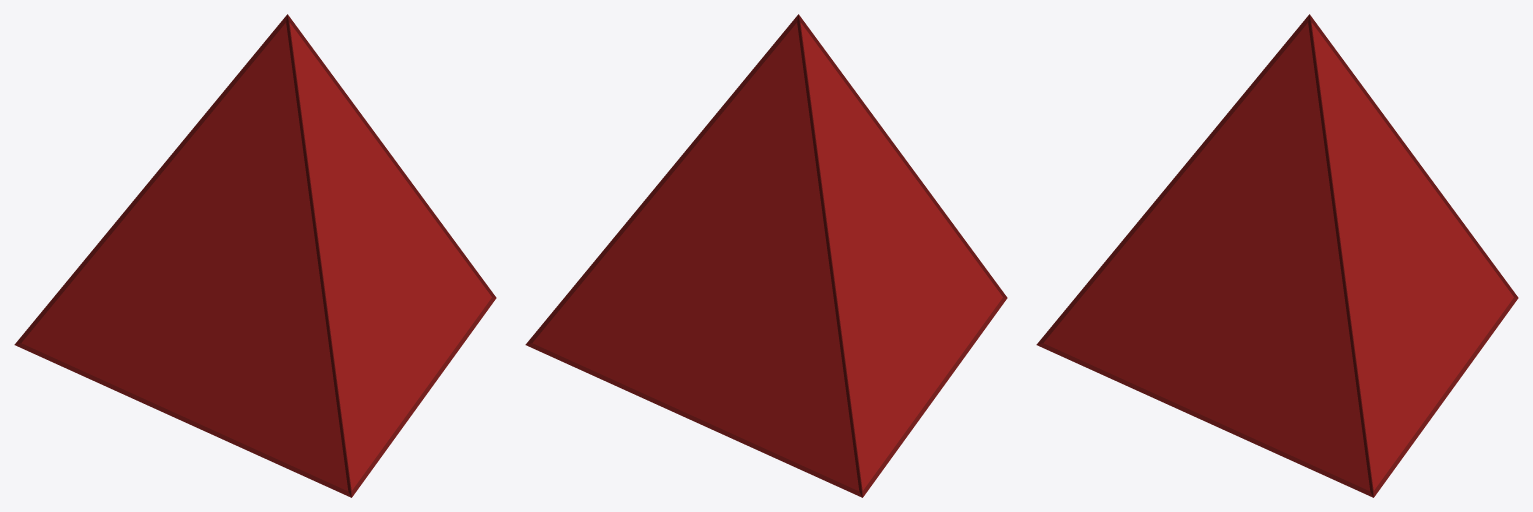
The model's file is tetraedro.glb.
The picture shows the model from 3 angles, left to right: view 1: azimuth 30°, elevation 25°; view 2: azimuth 150°, elevation 25°; view 3: azimuth 270°, elevation 25°; orthographic projection.
Visible parts, largest first — view 1: Solid.003, Solid.001; view 2: Solid.003, Solid.001; view 3: Solid.003, Solid.001.
Boxes of the visible parts, bbox=[...] form: Solid.003: bbox=[21, 23, 491, 490]; Solid.001: bbox=[14, 14, 496, 497]; Solid.003: bbox=[532, 23, 1002, 490]; Solid.001: bbox=[525, 14, 1007, 497]; Solid.003: bbox=[1043, 23, 1513, 490]; Solid.001: bbox=[1036, 14, 1518, 497].
Bounding box in the file's own units: 1.58 × 1.35 × 1.61.
